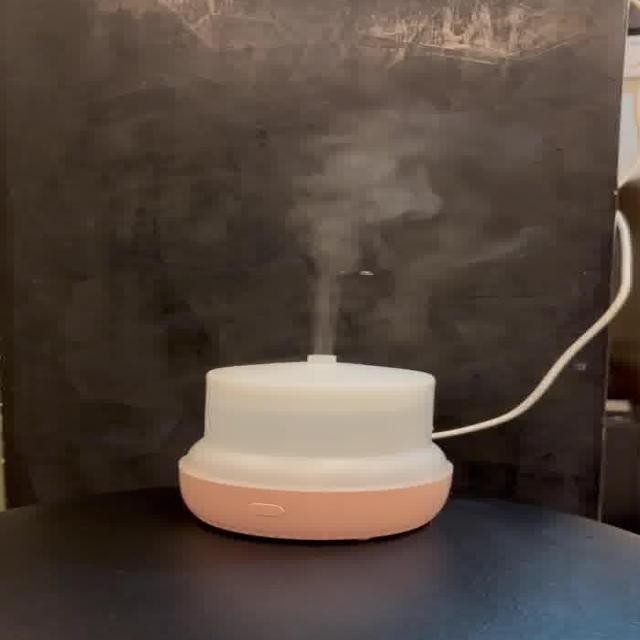fire: (295, 120, 502, 354)
